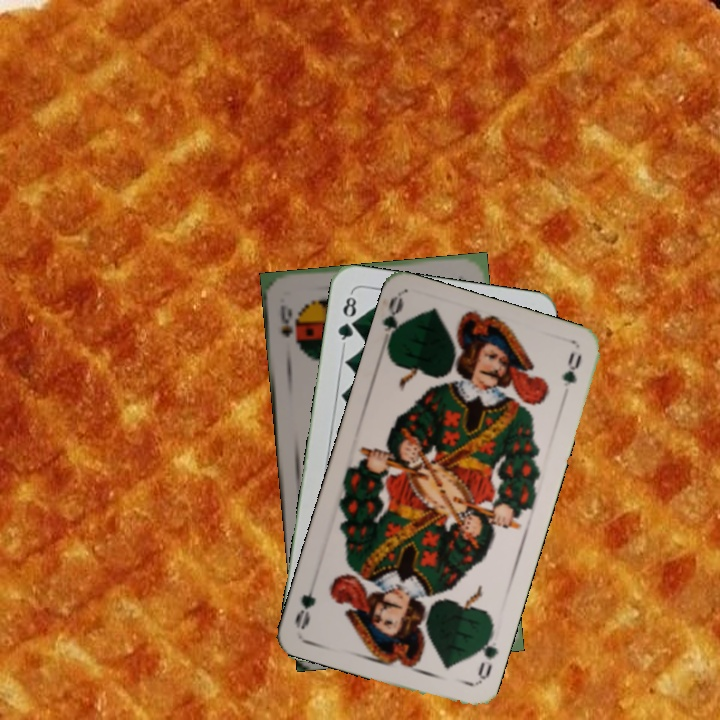G8: (333, 289, 359, 348)
GO: (376, 293, 409, 354), (471, 627, 501, 686)
SO: (276, 301, 300, 346)
